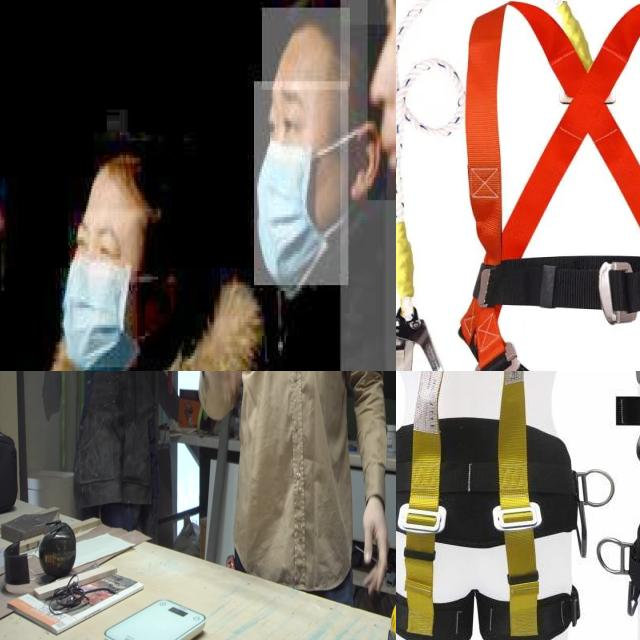Harness: (462, 0, 640, 371), (396, 371, 579, 640)
No_Ear-Protection: (342, 104, 383, 223)
No_Glasses: (249, 66, 314, 154)
face_mask: (254, 81, 350, 288), (61, 212, 138, 368)
face_nomask: (367, 0, 396, 203)
head_nohelmet: (262, 8, 352, 90), (80, 146, 161, 212)
person: (236, 24, 386, 371), (6, 140, 222, 371), (194, 371, 391, 606), (340, 0, 396, 371)
